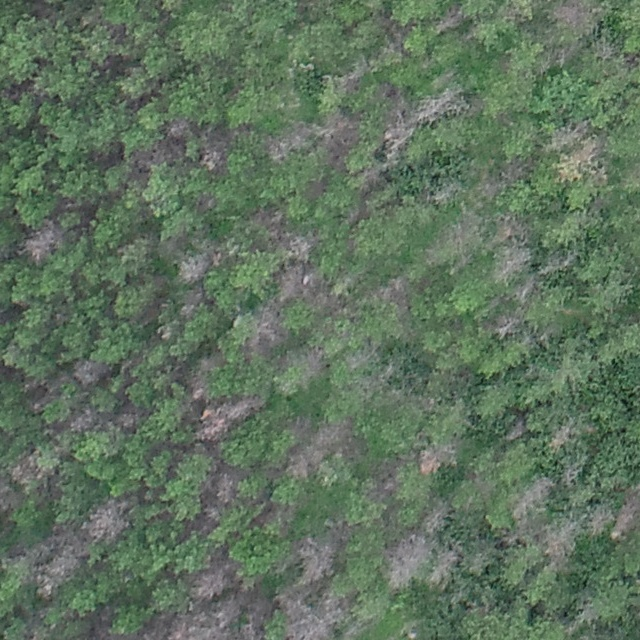unhealthy: (288, 418, 360, 481), (29, 525, 81, 598), (424, 209, 485, 268), (199, 398, 256, 442), (388, 534, 430, 592), (81, 496, 130, 544), (189, 560, 243, 603), (550, 134, 600, 180), (286, 605, 350, 640), (414, 88, 471, 124), (296, 535, 336, 586), (17, 220, 62, 264), (547, 0, 601, 36), (317, 111, 363, 152), (544, 516, 579, 569), (512, 477, 556, 518), (610, 483, 640, 541), (10, 450, 51, 490), (246, 303, 282, 348), (546, 117, 590, 150), (495, 245, 533, 283), (129, 142, 184, 167), (269, 126, 308, 161), (431, 544, 459, 591), (23, 378, 58, 413), (419, 442, 457, 474), (277, 264, 308, 302), (383, 125, 416, 160), (176, 250, 212, 282), (213, 592, 246, 626), (423, 497, 453, 533), (434, 4, 468, 34), (334, 64, 366, 95), (255, 203, 288, 233), (487, 312, 521, 341), (304, 348, 330, 385), (74, 357, 106, 387), (386, 271, 413, 306), (475, 170, 502, 203), (493, 217, 528, 241), (540, 254, 575, 278), (65, 409, 100, 432), (561, 460, 588, 488), (504, 158, 534, 183), (358, 165, 385, 191), (587, 504, 608, 536), (202, 144, 225, 173), (430, 181, 459, 204), (164, 117, 192, 140), (180, 290, 204, 316), (287, 238, 314, 261), (198, 348, 225, 370), (218, 473, 237, 504), (506, 417, 528, 442), (550, 424, 570, 451), (111, 413, 142, 430), (156, 323, 176, 339)
